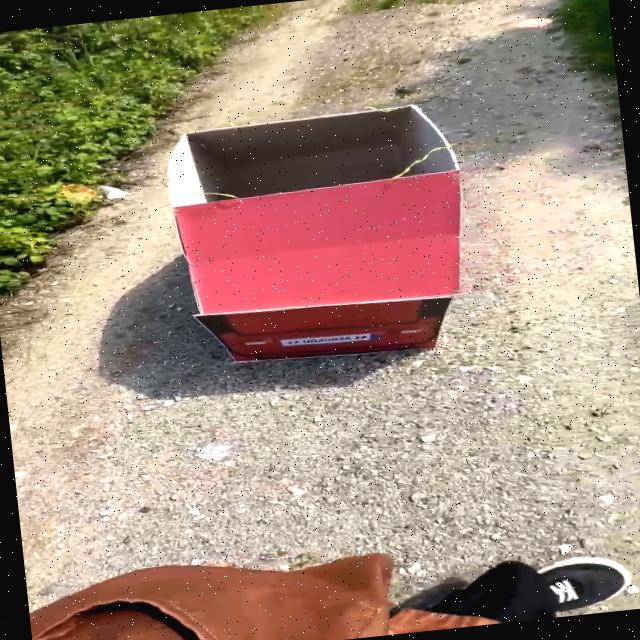red_car: (129, 59, 547, 395)
